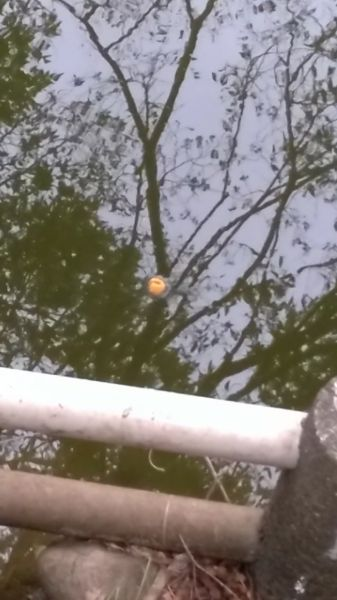eggs: (144, 274, 169, 296)
